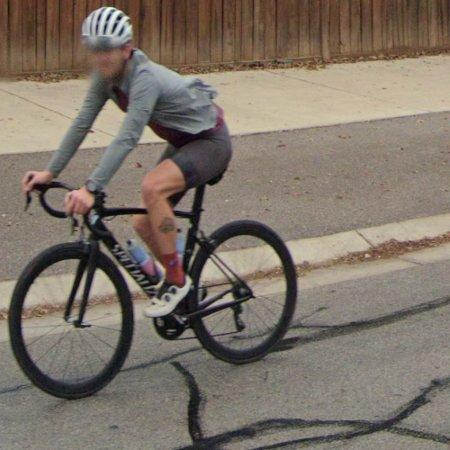bicycles: (8, 193, 156, 400), (154, 186, 297, 364)
